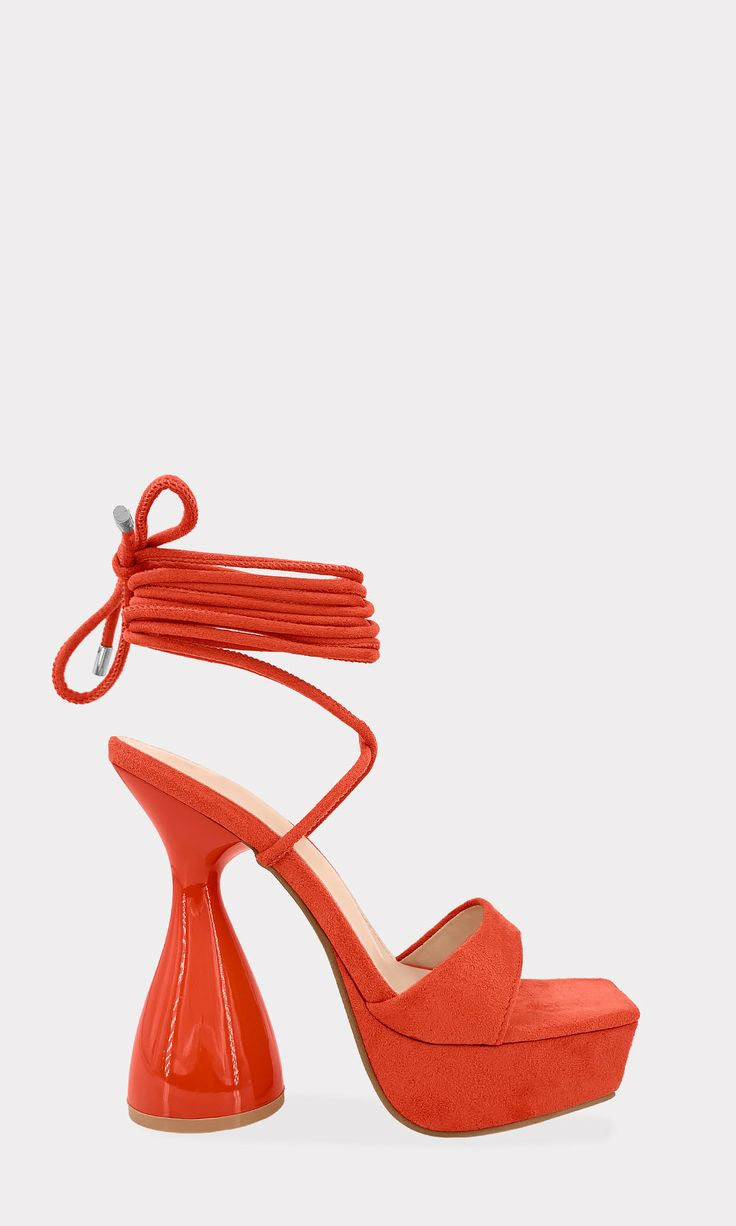gamuza: (272, 842, 640, 1128)
